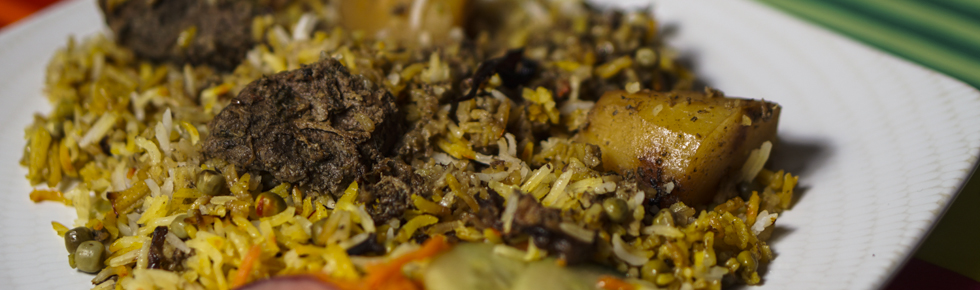Biryani: (23, 18, 791, 277)
